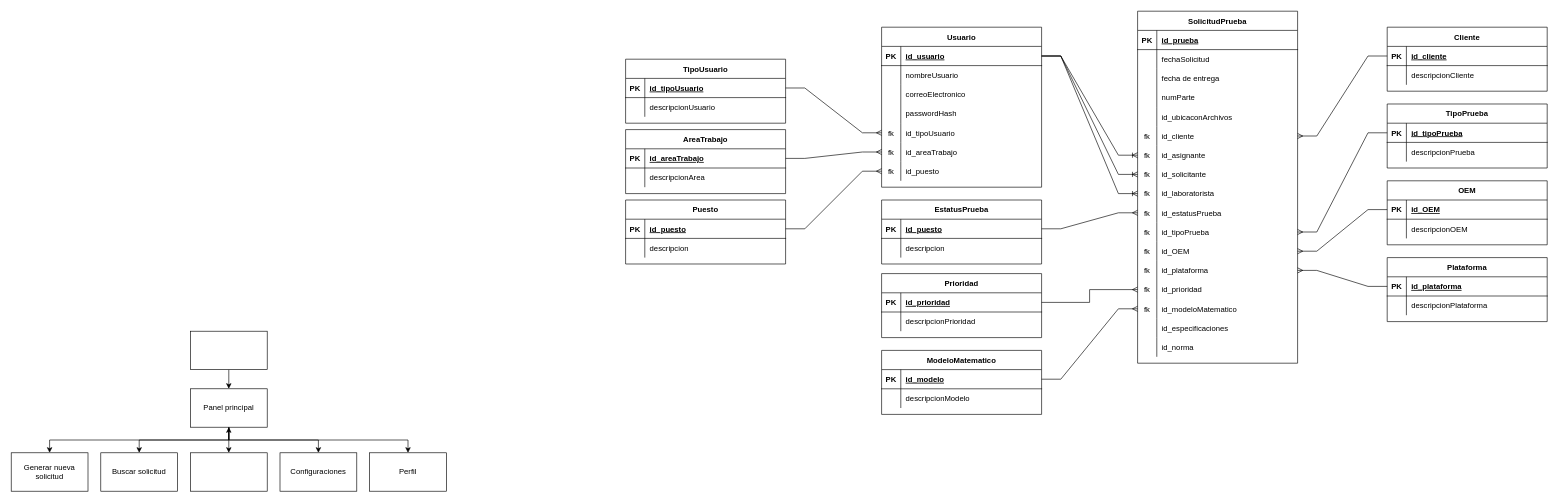
Image size: 1558x502. Some labels were removed from this diagram. The centre of each missing label's shape, as x and y in pixels:
Generar reporte: the point at 228,471
Inicio: the point at 228,350
